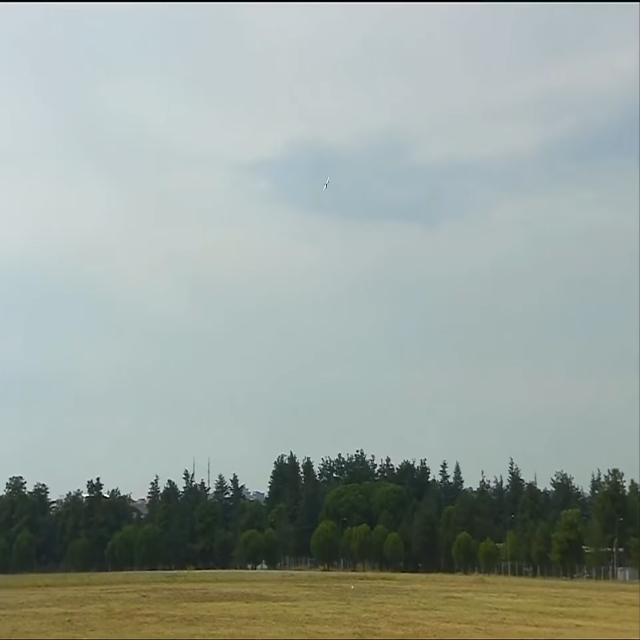iha: (319, 171, 322, 192)
